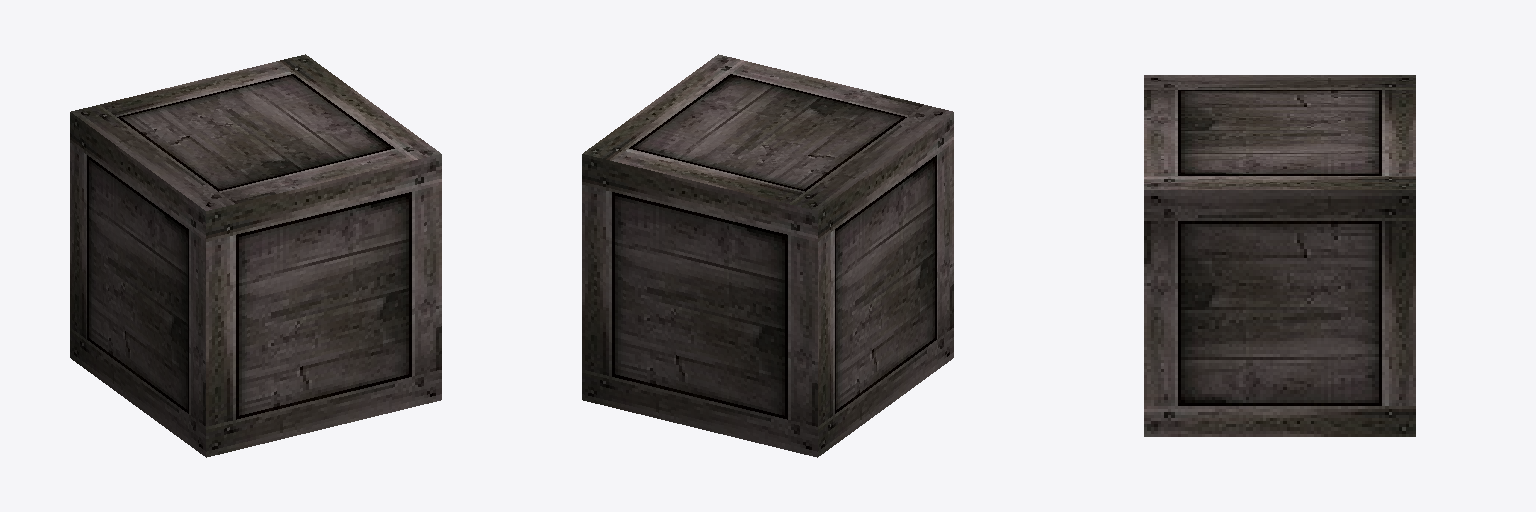
The picture shows the model from 3 angles: view 1: azimuth 30°, elevation 25°; view 2: azimuth 150°, elevation 25°; view 3: azimuth 270°, elevation 25°; orthographic projection.
Visible parts, largest first — view 1: Cube_Cube.002; view 2: Cube_Cube.002; view 3: Cube_Cube.002.
Boxes of the visible parts, box(x1,y1,x2,y2) form: Cube_Cube.002: box(70, 54, 441, 457); Cube_Cube.002: box(582, 54, 953, 457); Cube_Cube.002: box(1144, 75, 1415, 436).
Bounding box in the file's own units: 2 × 2 × 2.
Materials: 1 (1 with a texture image).